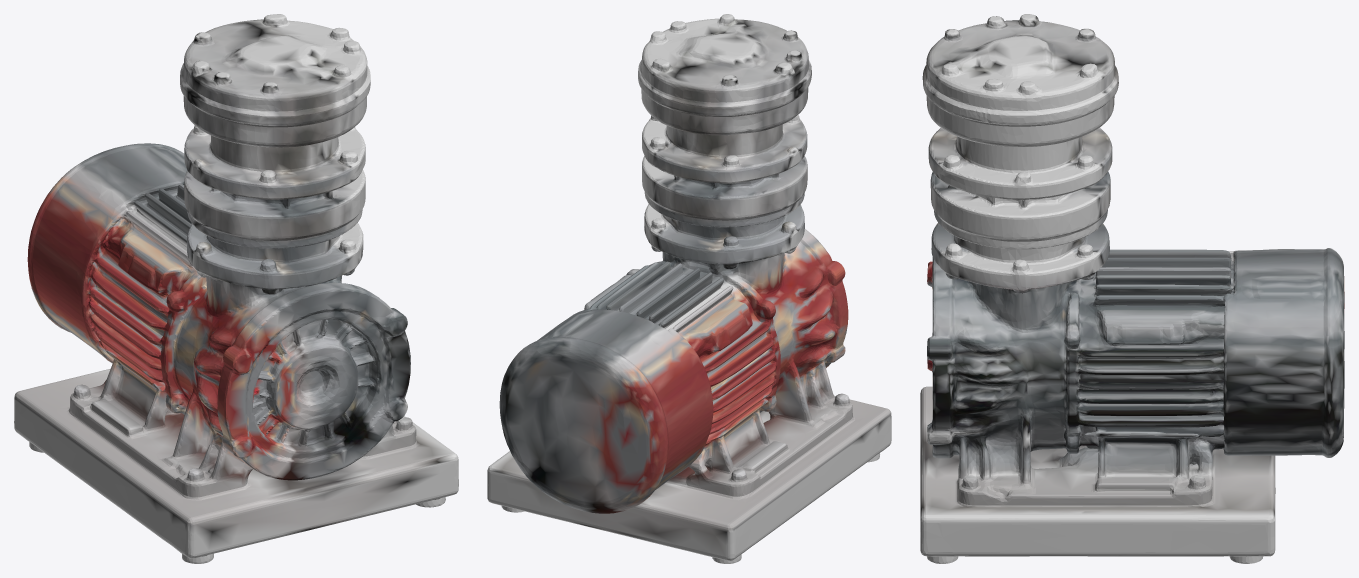
The model's file is machine.glb.
3 renders of one model, left to right at view 1: azimuth 30°, elevation 25°; view 2: azimuth 150°, elevation 25°; view 3: azimuth 270°, elevation 25°, orthographic. The views are drawn at different scales.
Parts seen in each view (by area): view 1: tmp2mn4u31n.ply; view 2: tmp2mn4u31n.ply; view 3: tmp2mn4u31n.ply.
Part boxes in pixels (x1,y1,x2,y2): tmp2mn4u31n.ply: (14,14,458,563); tmp2mn4u31n.ply: (487,14,891,563); tmp2mn4u31n.ply: (920,14,1344,563).
Size of the model in its own units: 1.25 by 1.99 by 1.69.
